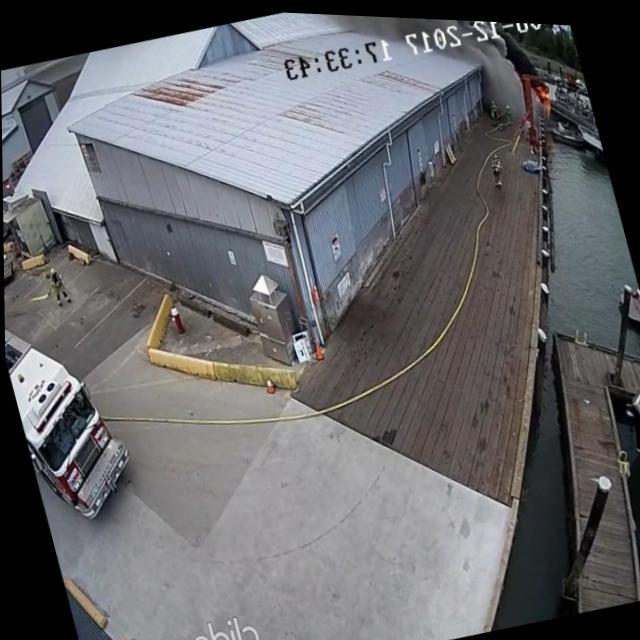fire: (531, 74, 557, 114)
